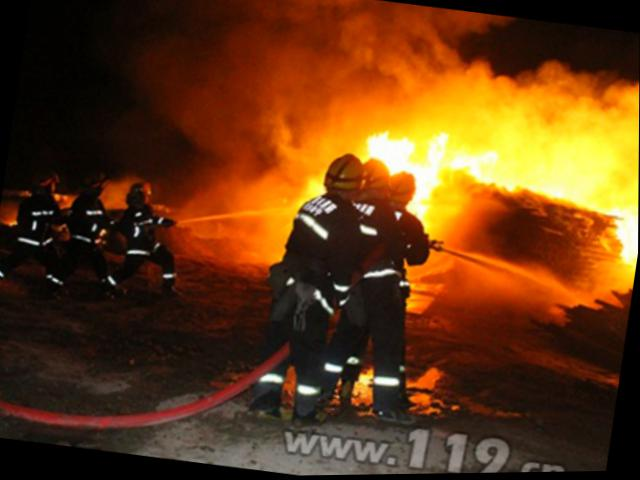fire: (353, 120, 494, 242), (592, 206, 638, 268)
